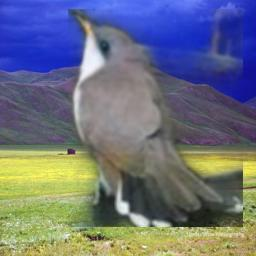Cuckoo: (68, 9, 243, 227)
